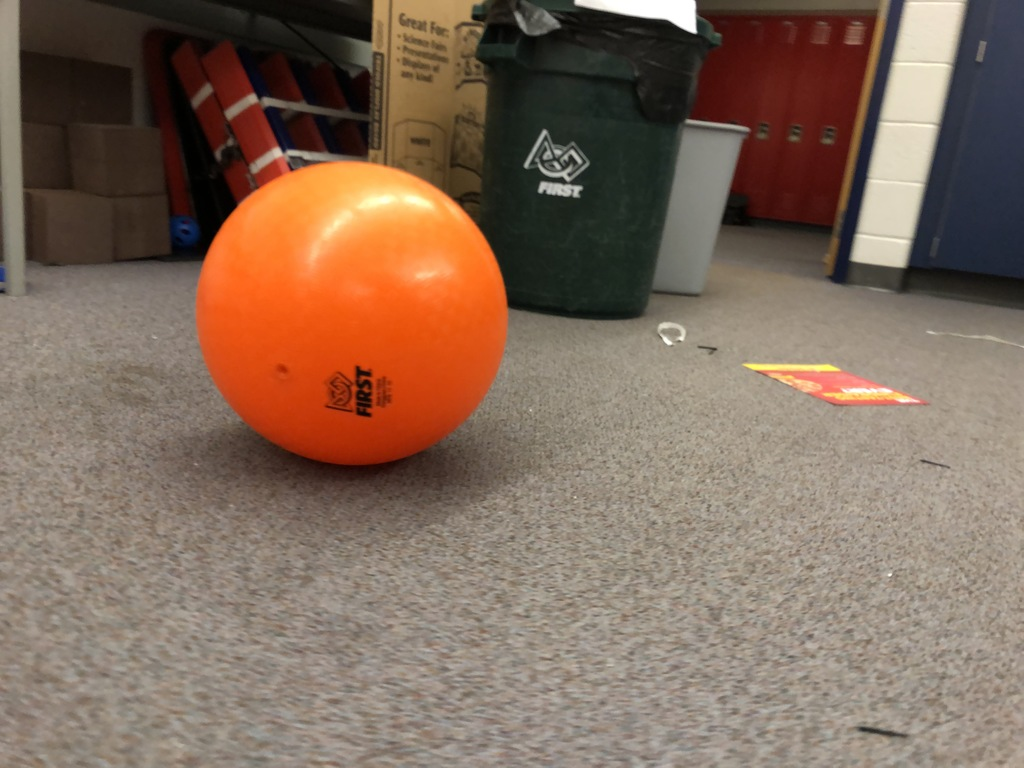cargo: (179, 144, 510, 475)
